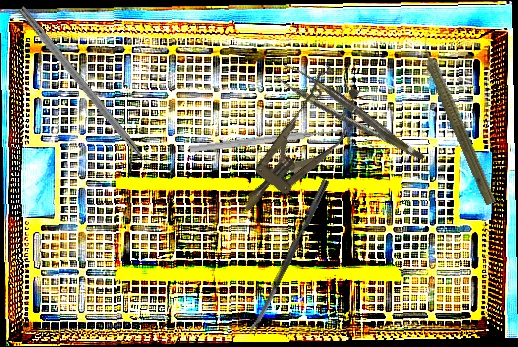Handpiece: (410, 29, 504, 207)
Hook Surgical: (16, 5, 160, 181)
Pusher: (188, 125, 348, 155)
Speculum: (221, 61, 375, 230)
Surgical Spoon: (247, 178, 330, 336)
Tissue Forceps: (272, 53, 426, 179)
